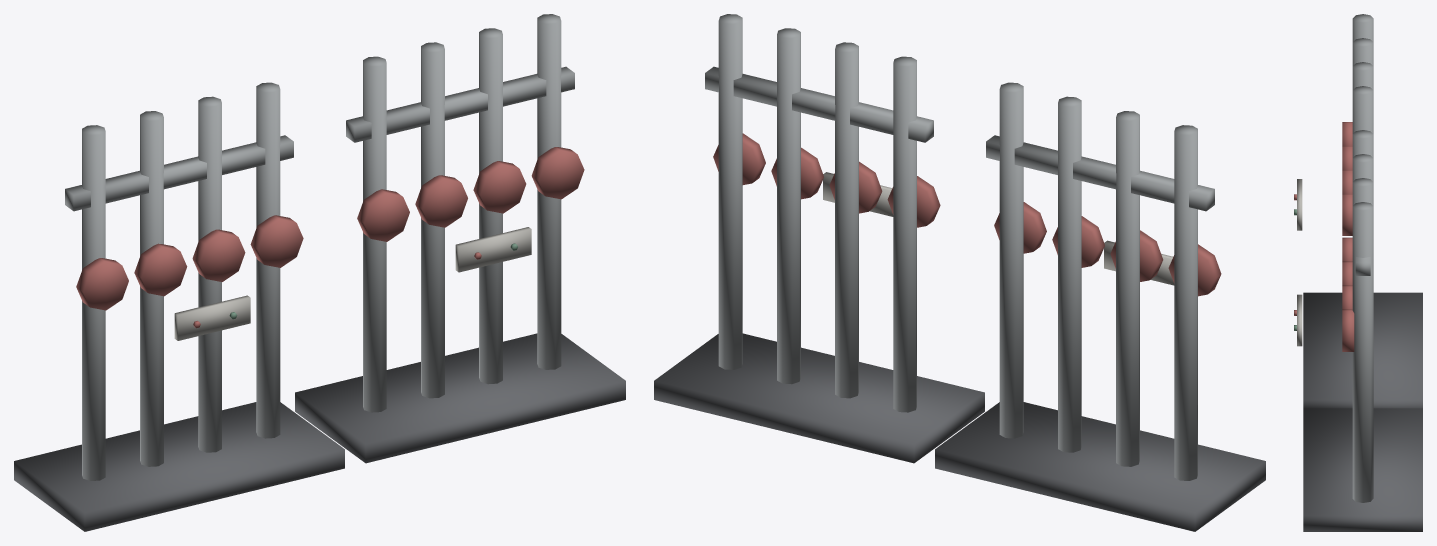
File: steam_manifold__cluster.glb
The picture shows the model from 3 angles, left to right: view 1: azimuth 30°, elevation 25°; view 2: azimuth 150°, elevation 25°; view 3: azimuth 270°, elevation 25°; orthographic projection. The views are drawn at different scales.
Parts seen in each view (by area): view 1: world; view 2: world; view 3: world.
Boxes of the visible parts, x1,y1,x2,y2 form: world: (14, 14, 625, 531); world: (654, 14, 1265, 531); world: (1294, 14, 1422, 531).
Bounding box in the file's own units: 1.77 × 1.14 × 0.431.
